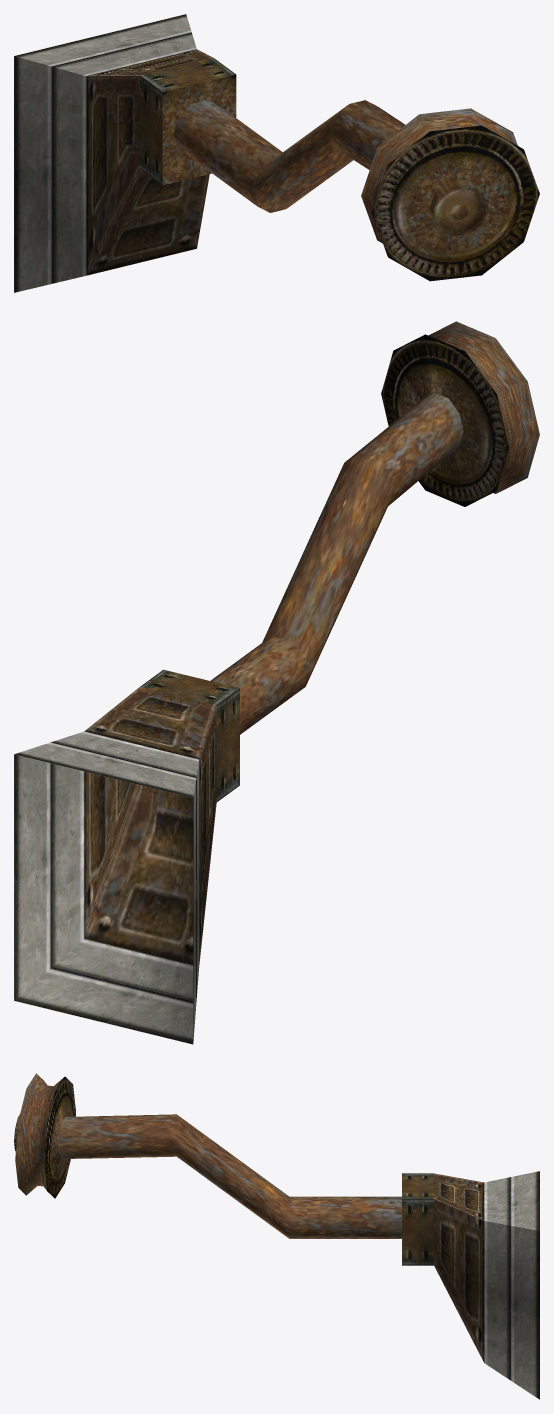
Rendered from DWARF_PALACE_GONDOLA_SUPPORT08A.fbx.
3 renders of one model, top to bottom at view 1: azimuth 30°, elevation 25°; view 2: azimuth 150°, elevation 25°; view 3: azimuth 270°, elevation 25°, orthographic. The views are drawn at different scales.
Parts seen in each view (by area): view 1: DWARF_PALACE_GONDOLA_SUPPORT08A; view 2: DWARF_PALACE_GONDOLA_SUPPORT08A; view 3: DWARF_PALACE_GONDOLA_SUPPORT08A.
Boxes of the visible parts, x1,y1,x2,y2 form: DWARF_PALACE_GONDOLA_SUPPORT08A: (14, 14, 539, 292); DWARF_PALACE_GONDOLA_SUPPORT08A: (14, 321, 539, 1044); DWARF_PALACE_GONDOLA_SUPPORT08A: (14, 1073, 539, 1399).
Bounding box in the file's own units: 9972 × 22403 × 36996.
6 materials, 6 textured.
